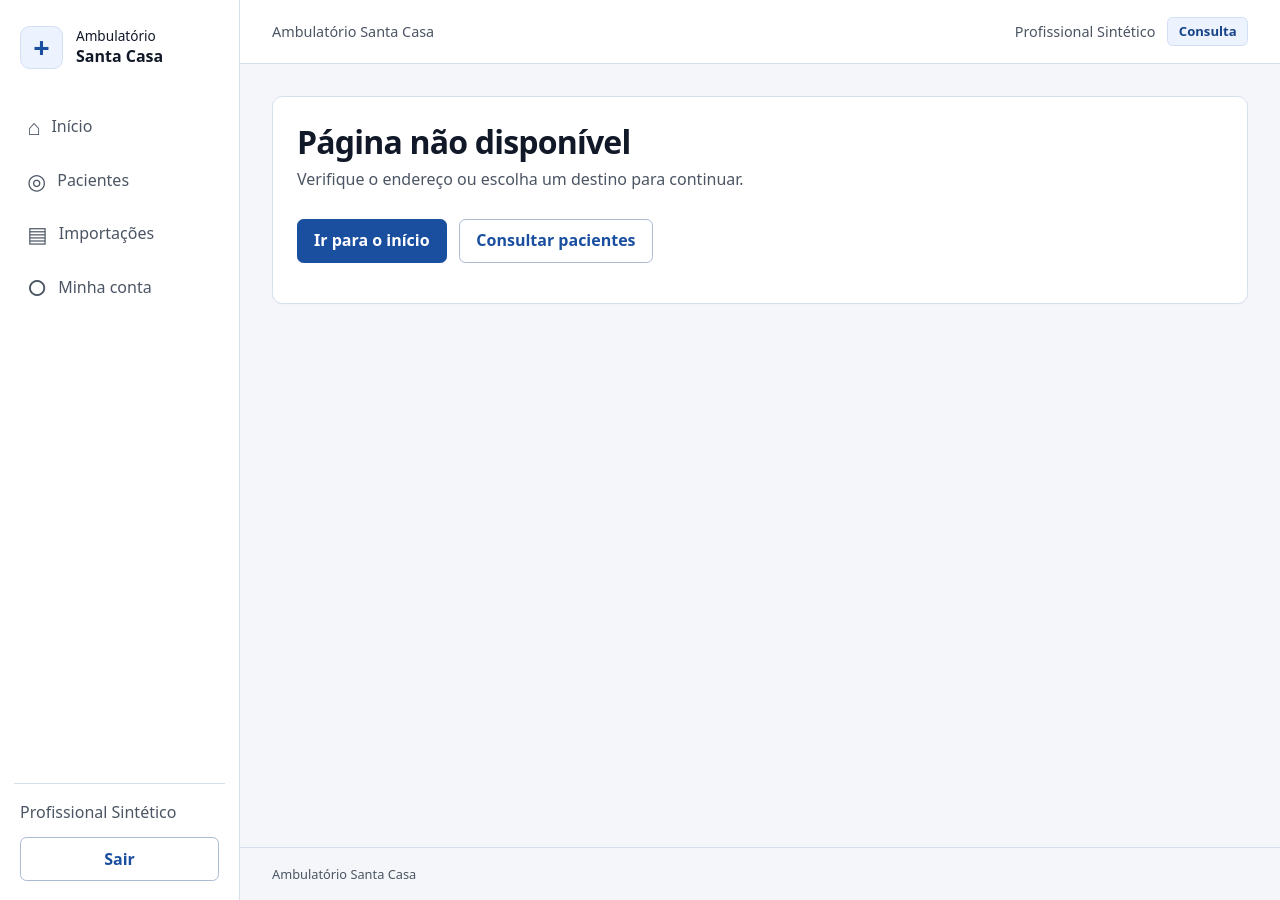
Test: 7D-U4.1 — conta, falha de identidade e página desconhecida › endereço desconhecido oferece início e busca sem alegar remoção do paciente
Check: the heading "Página não disponível" is shown, box x1=297 y1=120 x2=630 y2=163
Click the link "Ir para o início" at (372, 241), box x1=297 y1=219 x2=447 y2=263
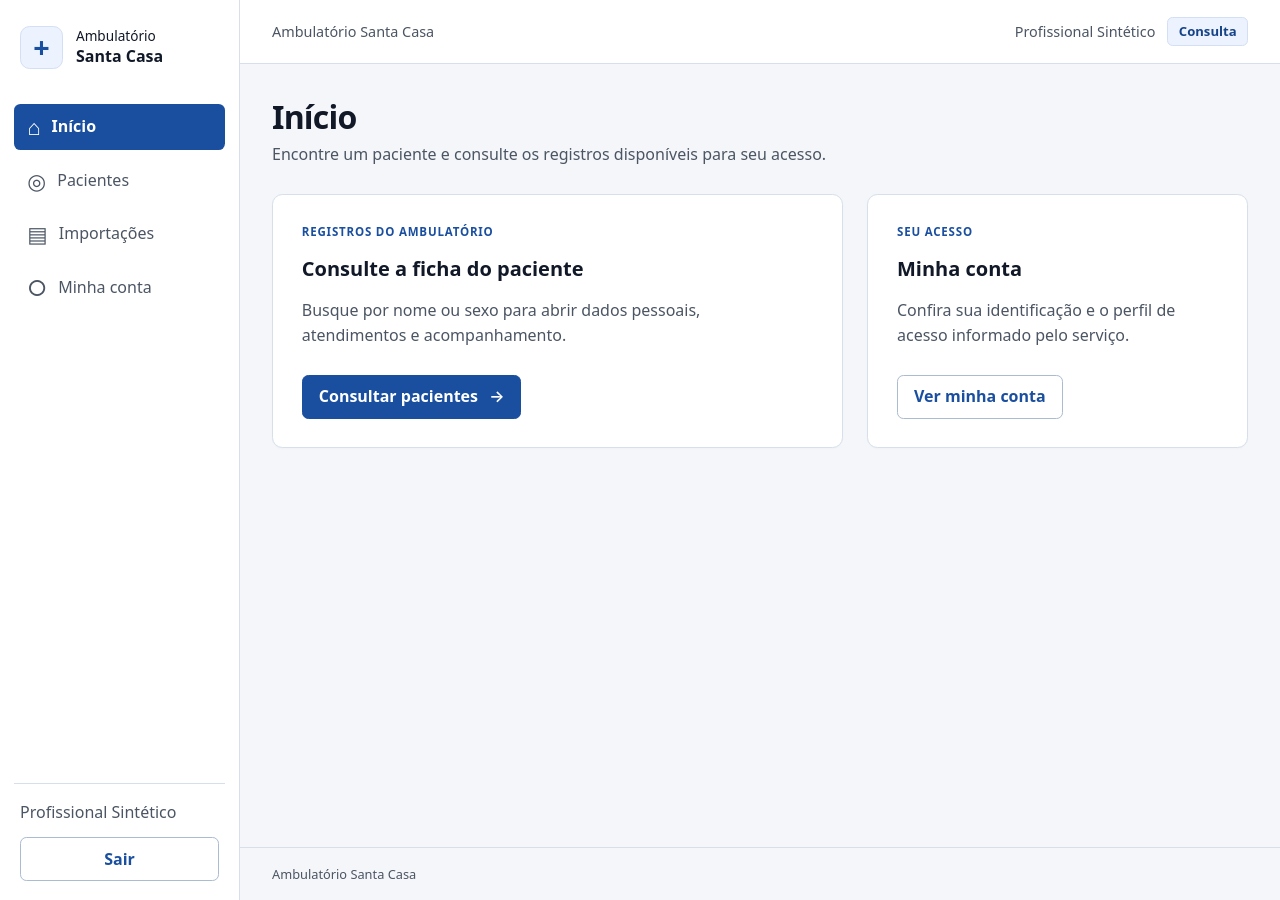
Check: the heading "Início" is shown, box x1=272 y1=95 x2=356 y2=138
